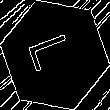L_E: (27, 32, 83, 78)
